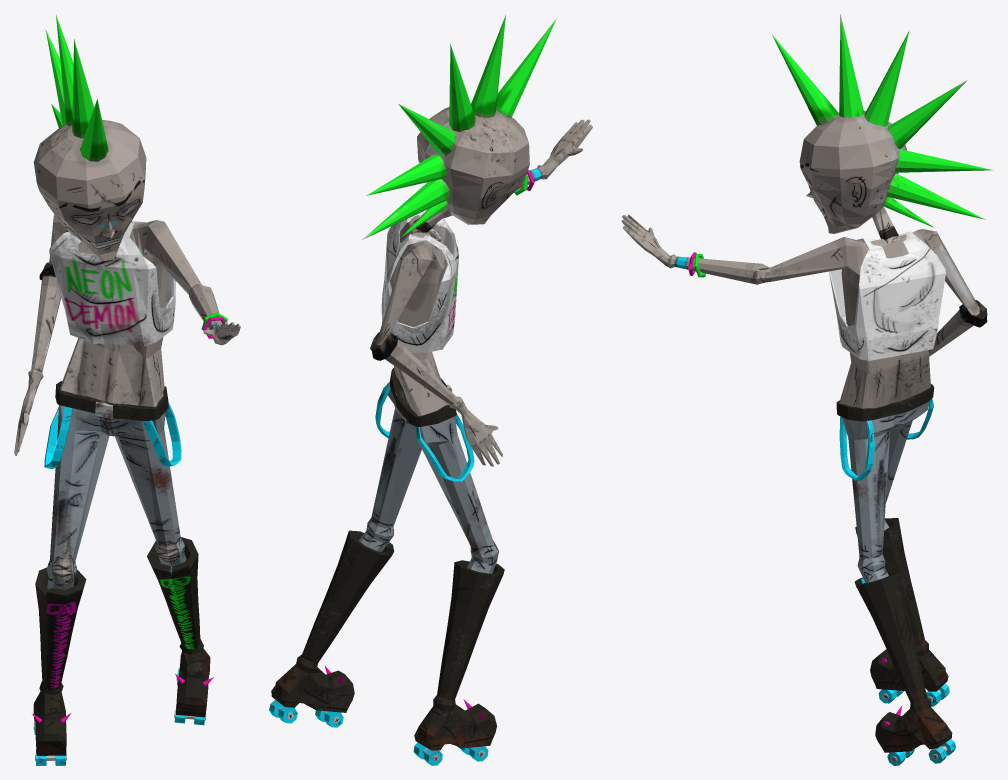
Rendered from punkAnimation_000022.obj.
3 views of the same model, side by side, from view 1: azimuth 30°, elevation 25°; view 2: azimuth 150°, elevation 25°; view 3: azimuth 270°, elevation 25° (orthographic). The views are drawn at different scales.
Parts seen in each view (by area): view 1: Cube.004_Cube.003; view 2: Cube.004_Cube.003; view 3: Cube.004_Cube.003.
Part boxes in pixels (x1,y1,x2,y2): Cube.004_Cube.003: [14, 15, 240, 765]; Cube.004_Cube.003: [269, 15, 592, 765]; Cube.004_Cube.003: [621, 14, 992, 765].
Size of the model in its own units: 2.24 by 7.4 by 3.66.
